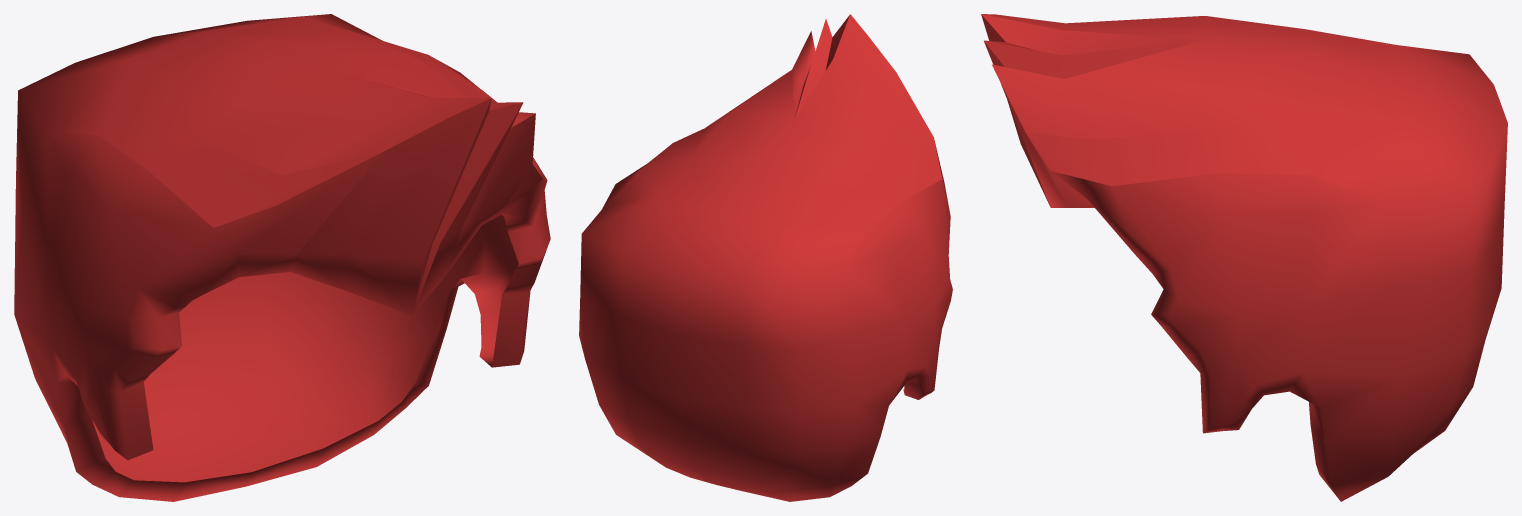
Rendered from Hair_Red_3.fbx.
3 views of the same model, side by side, from view 1: azimuth 30°, elevation 25°; view 2: azimuth 150°, elevation 25°; view 3: azimuth 270°, elevation 25° (orthographic). The views are drawn at different scales.
Visible parts, largest first — view 1: Hair_Red_3; view 2: Hair_Red_3; view 3: Hair_Red_3.
Boxes of the visible parts, <box> form: Hair_Red_3: <box>14,14,550,501</box>; Hair_Red_3: <box>579,14,952,501</box>; Hair_Red_3: <box>981,14,1507,501</box>.
Size of the model in its own units: 53.25 by 60.55 by 61.45.
